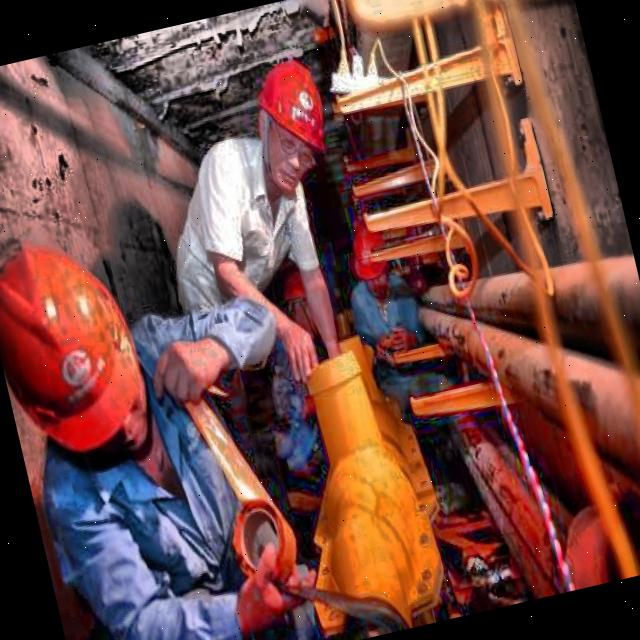helmet: (0, 221, 161, 471), (239, 44, 356, 204), (339, 214, 408, 308), (272, 259, 334, 348)
